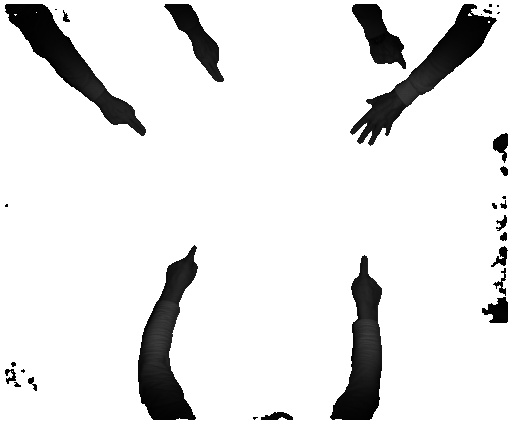hand: (344, 95, 402, 151), (344, 253, 383, 315), (164, 240, 199, 300), (102, 95, 151, 135), (191, 30, 223, 87), (367, 29, 409, 71)
